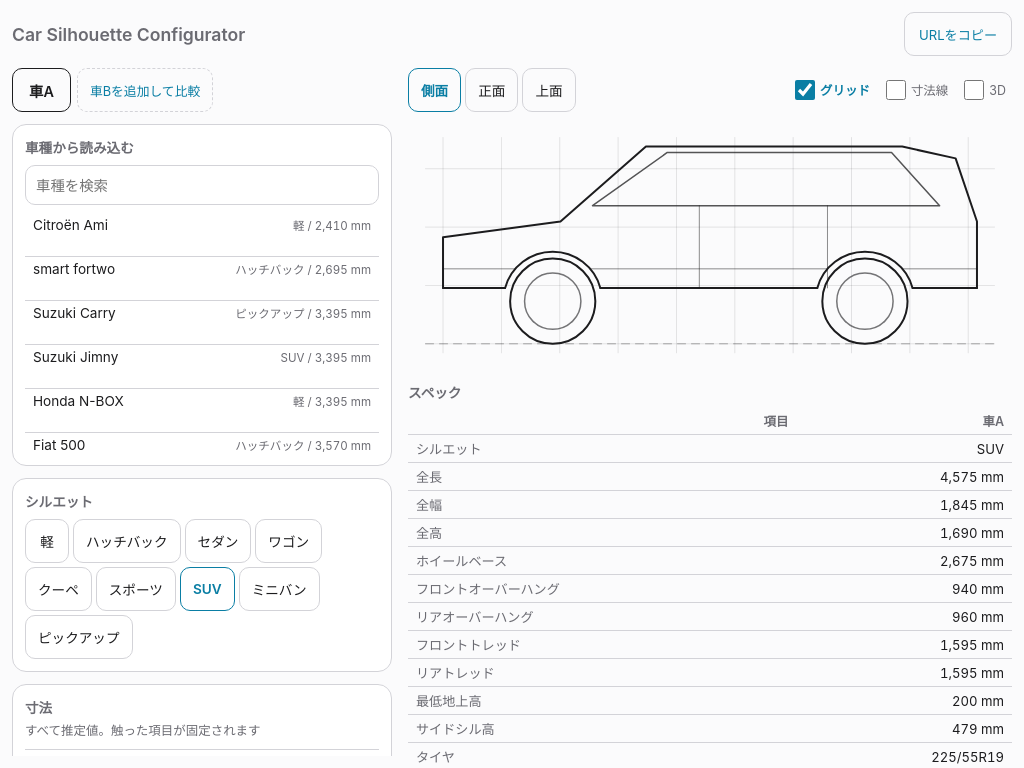
Test: App 車種プリセット › 検索で絞り込める
Type "cx-5" into the search field labelled "車種を検索" at (202,185), box [25,165,379,205]
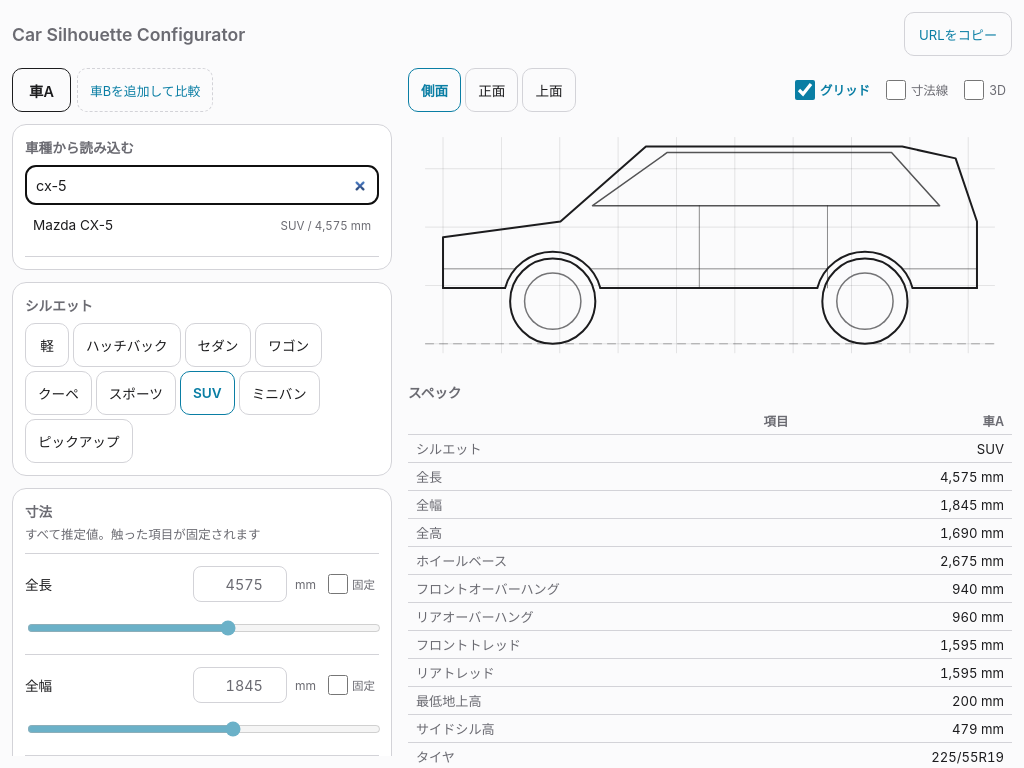
Check: the button "Mazda CX-5 SUV / 4,575 mm" is shown, box [25,213,379,257]
